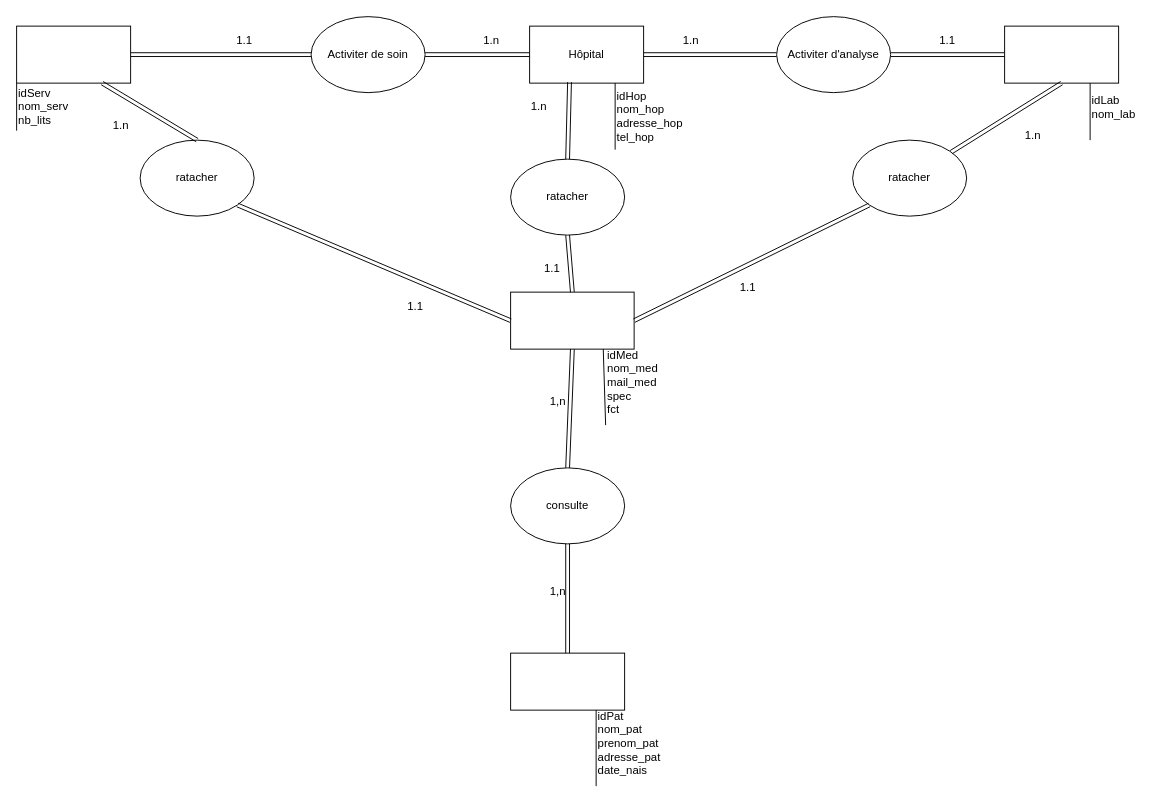
Image size: 1164x804. Some labels were removed from this diagram. The box of each missing label's shape, as (x1, y1, x2, y2) in pixels:
Laboratoire: (1004, 25, 1119, 83)
Medecin: (510, 291, 634, 349)
Patient: (510, 652, 625, 710)
Service: (16, 25, 131, 83)
